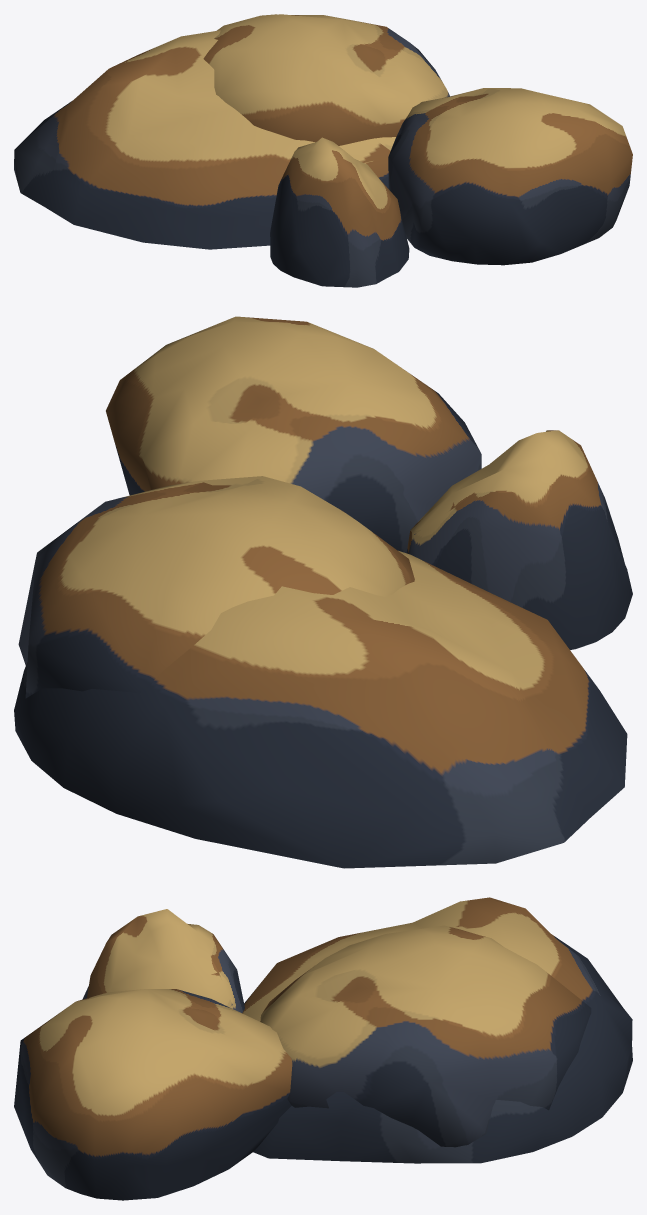
File: Massive Starlet Coral 5_preview_3DS_simplified.glb
The picture shows the model from 3 angles, top to bottom: view 1: azimuth 30°, elevation 25°; view 2: azimuth 150°, elevation 25°; view 3: azimuth 270°, elevation 25°; orthographic projection. The views are drawn at different scales.
Parts seen in each view (by area): view 1: Marine Park Empire model; view 2: Marine Park Empire model; view 3: Marine Park Empire model.
Part boxes in pixels (bbox=[...]): Marine Park Empire model: bbox=[14, 14, 632, 287]; Marine Park Empire model: bbox=[14, 316, 632, 868]; Marine Park Empire model: bbox=[14, 897, 632, 1200].
Size of the model in its own units: 148 by 42.28 by 154.
1 material, 1 textured.
